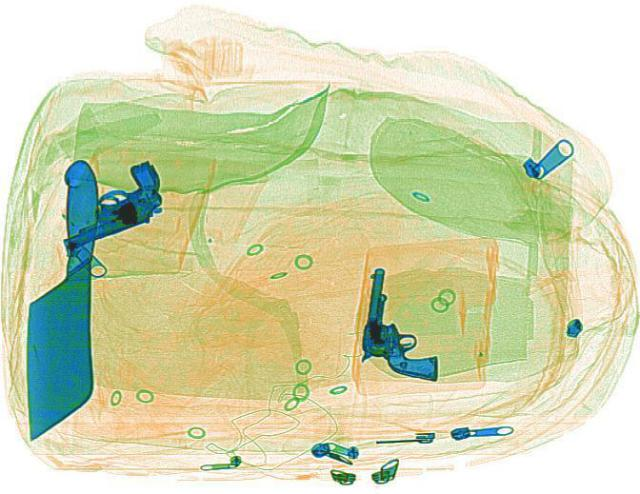Gun: (30, 156, 186, 250), (354, 265, 450, 378)
Knife: (16, 157, 106, 437)
